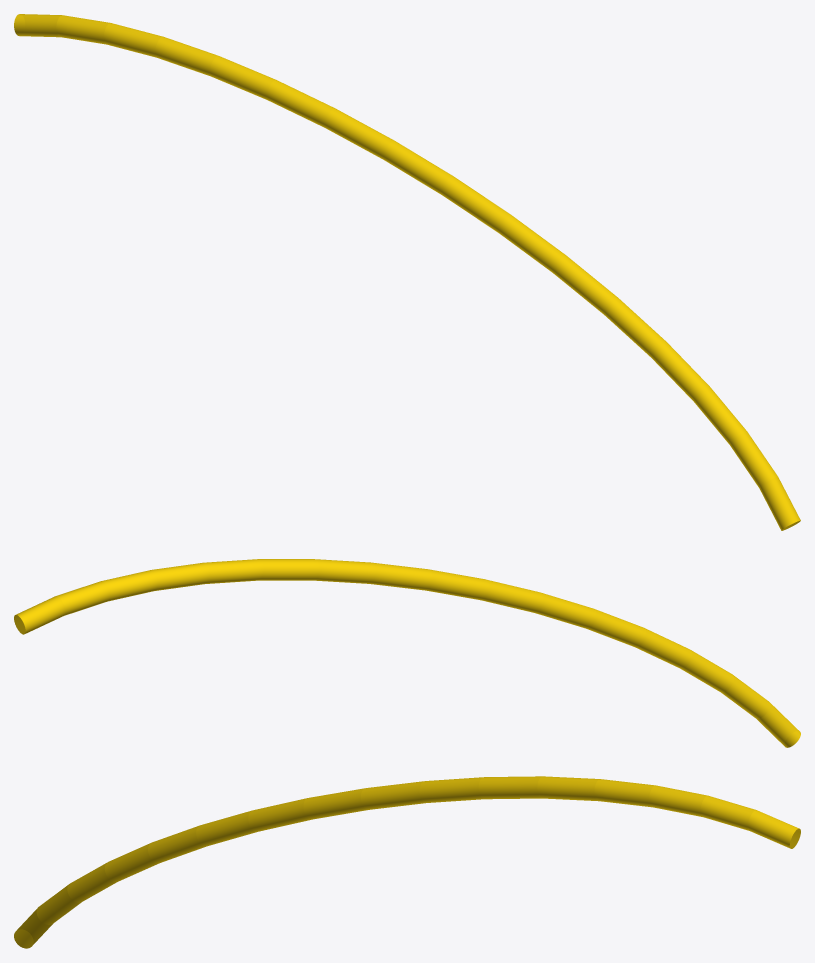
File: Event_421127236_track_33.fbx
The picture shows the model from 3 angles, top to bottom: view 1: azimuth 90°, elevation 25°; view 2: azimuth 150°, elevation 25°; view 3: azimuth 270°, elevation 25°; orthographic projection. The views are drawn at different scales.
Visible parts, largest first — view 1: Model; view 2: Model; view 3: Model.
Boxes of the visible parts, x1,y1,x2,y2 form: Model: [14, 14, 800, 530]; Model: [14, 559, 800, 747]; Model: [14, 776, 800, 948].
Bounding box in the file's own units: 0.8897 × 0.6542 × 1.42.
